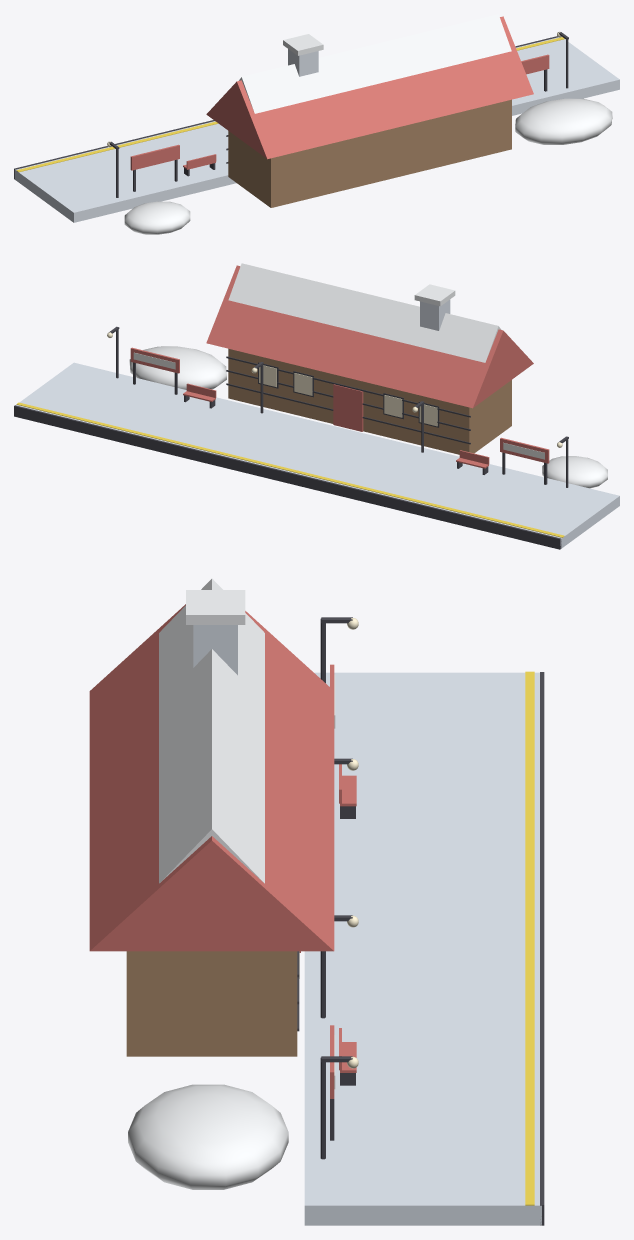
The model's file is Station_snow.fbx.
3 renders of one model, top to bottom at view 1: azimuth 30°, elevation 25°; view 2: azimuth 150°, elevation 25°; view 3: azimuth 270°, elevation 25°, orthographic. The views are drawn at different scales.
Visible parts, largest first — view 1: Station_snow; view 2: Station_snow; view 3: Station_snow.
Boxes of the visible parts, x1,y1,x2,y2 form: Station_snow: (14, 14, 619, 234); Station_snow: (14, 263, 619, 549); Station_snow: (89, 578, 544, 1225).
Bounding box in the file's own units: 34 × 9.28 × 12.26.
